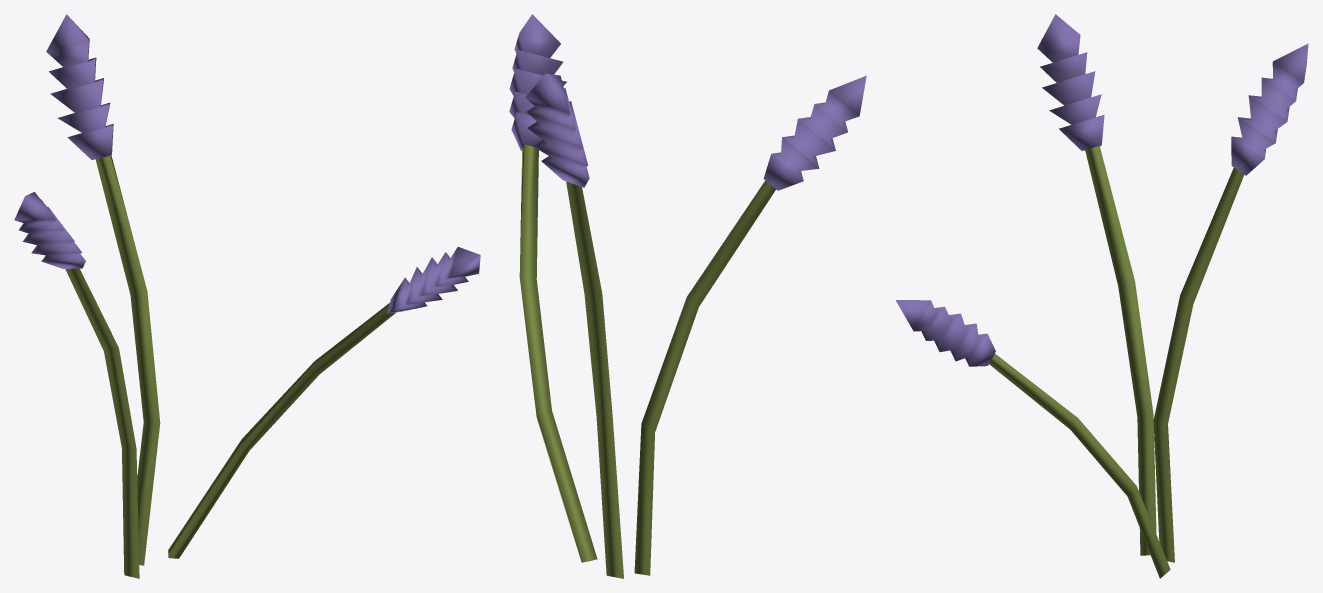
File: rpgpp_ag_flower_03b 1.fbx
The picture shows the model from 3 angles, left to right: view 1: azimuth 30°, elevation 25°; view 2: azimuth 150°, elevation 25°; view 3: azimuth 270°, elevation 25°; orthographic projection. The views are drawn at different scales.
Parts seen in each view (by area): view 1: rpgpp_ag_flower_03b; view 2: rpgpp_ag_flower_03b; view 3: rpgpp_ag_flower_03b.
Part boxes in pixels (x1,y1,x2,y2): rpgpp_ag_flower_03b: (14, 14, 480, 578); rpgpp_ag_flower_03b: (509, 14, 866, 578); rpgpp_ag_flower_03b: (895, 14, 1308, 578).
Bounding box in the file's own units: 1.1 × 1.36 × 0.9856.
